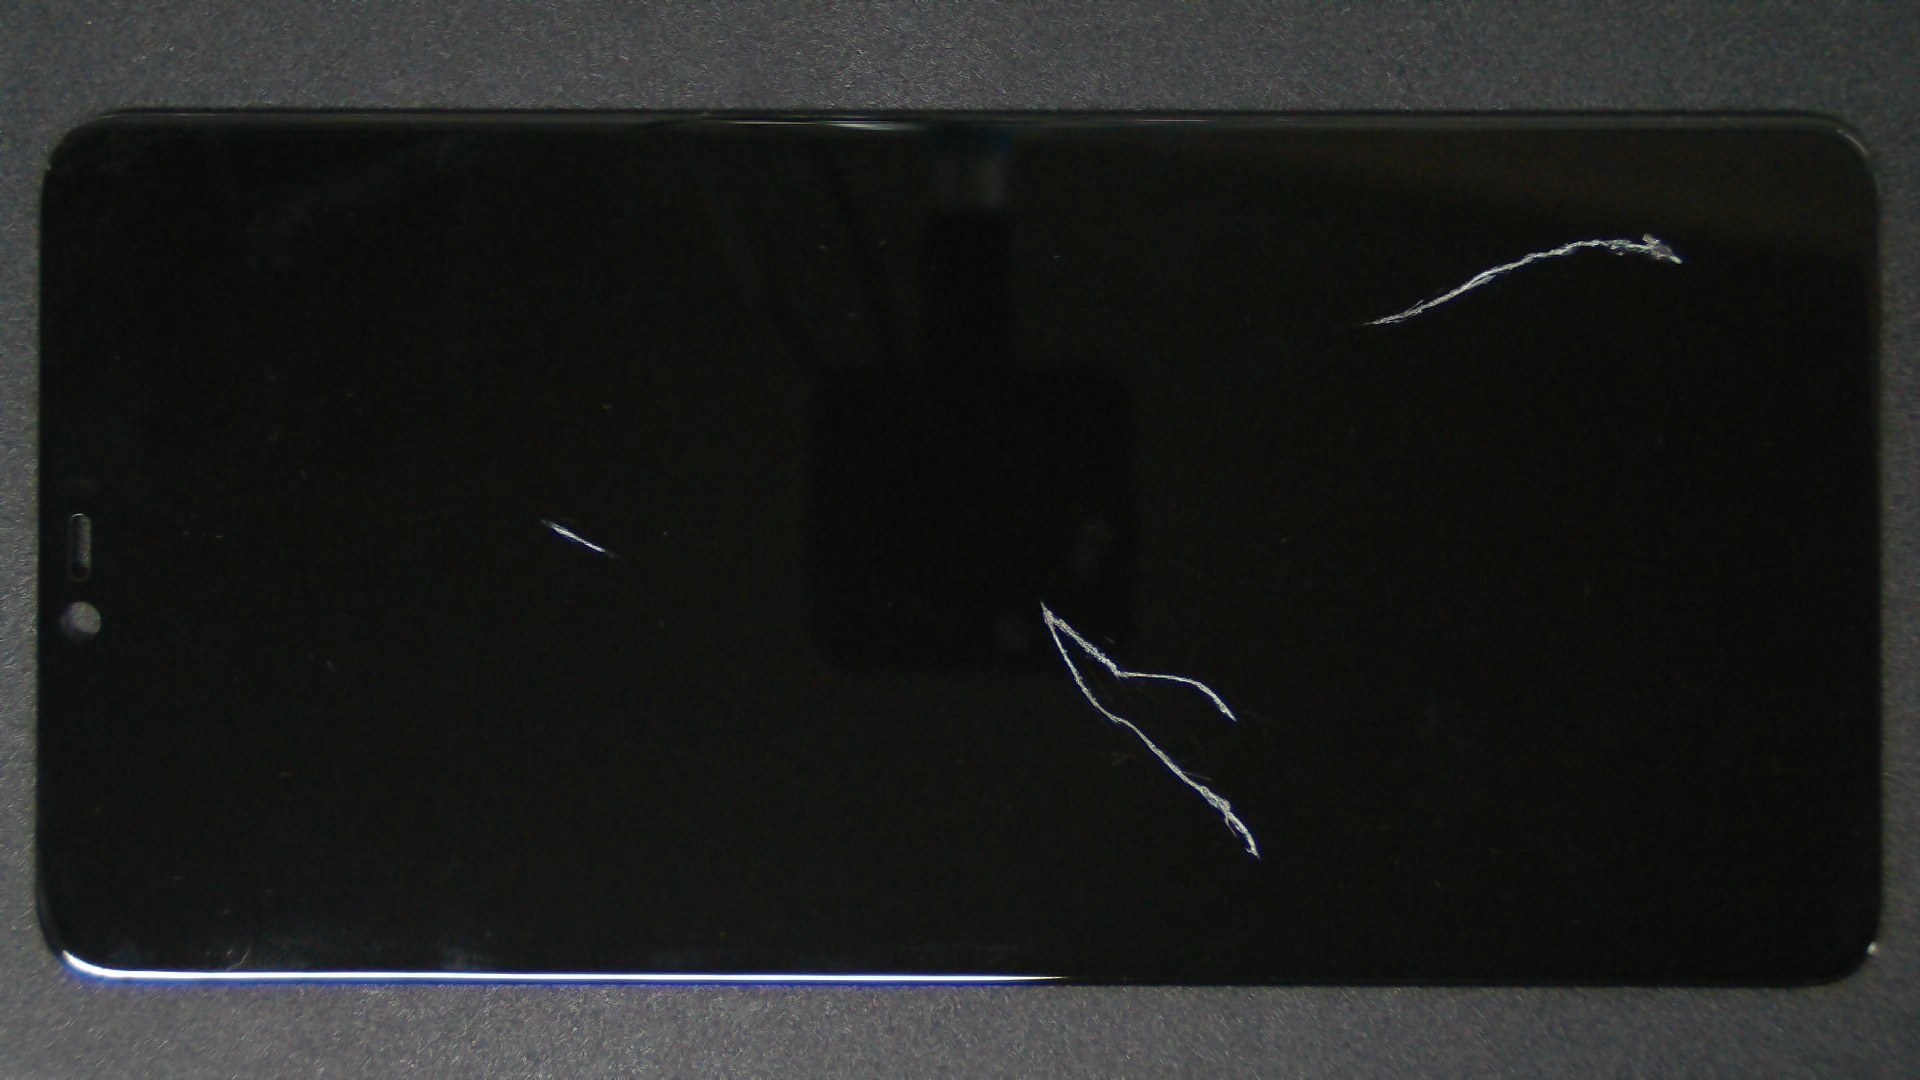oil: (520, 299, 1560, 901), (272, 260, 815, 782), (824, 115, 1920, 349)
